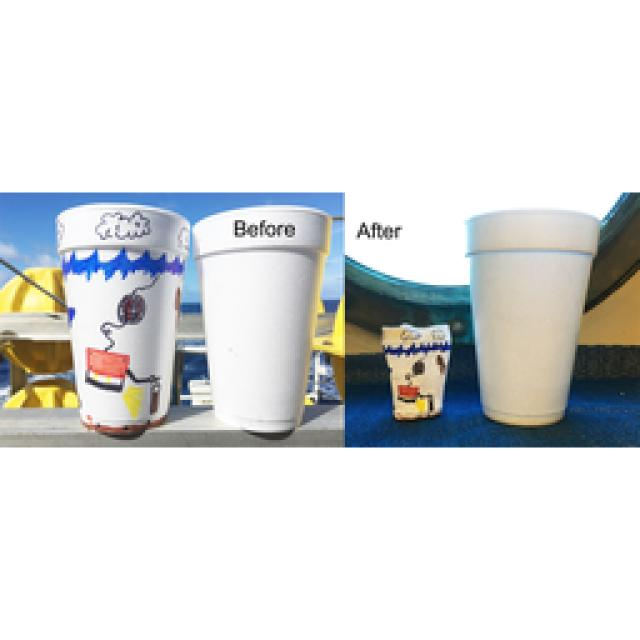styrofoam: (192, 205, 328, 435), (58, 202, 188, 435), (468, 210, 598, 425)
